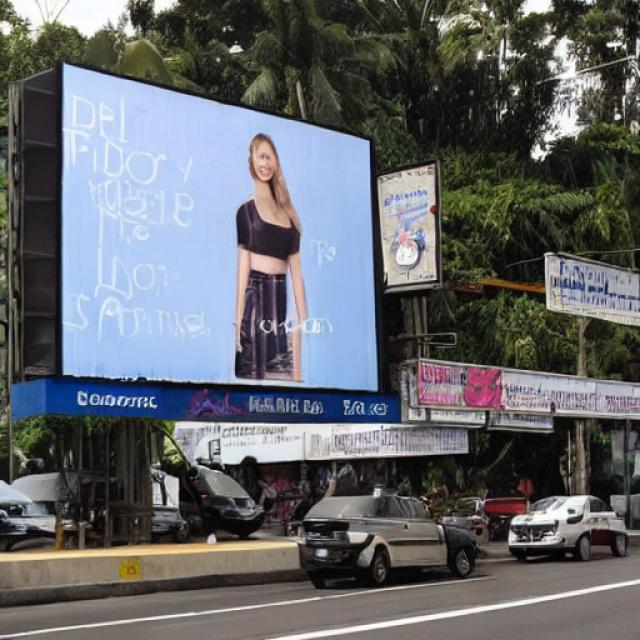Billboard: (52, 54, 384, 401)
